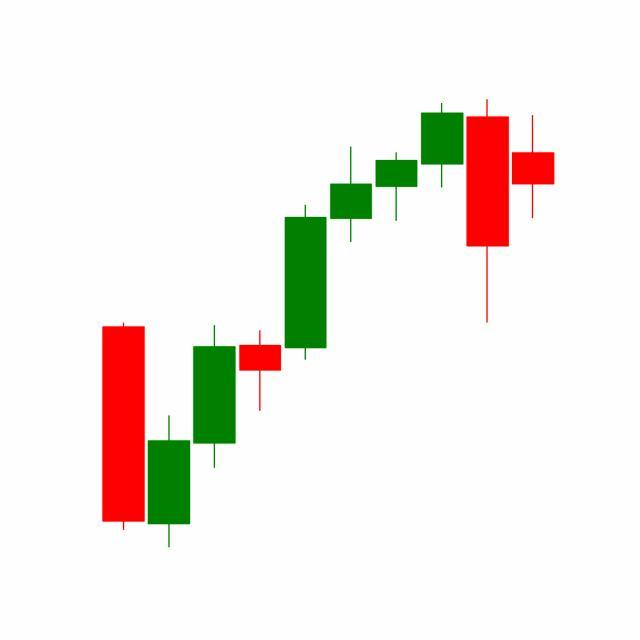Hikkake Pattern: (283, 99, 512, 364)
